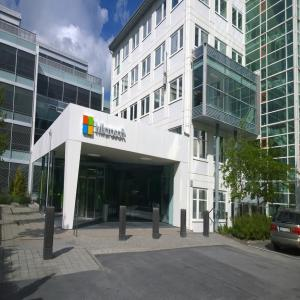Vehicle-registration-plate: (279, 227, 291, 234)
